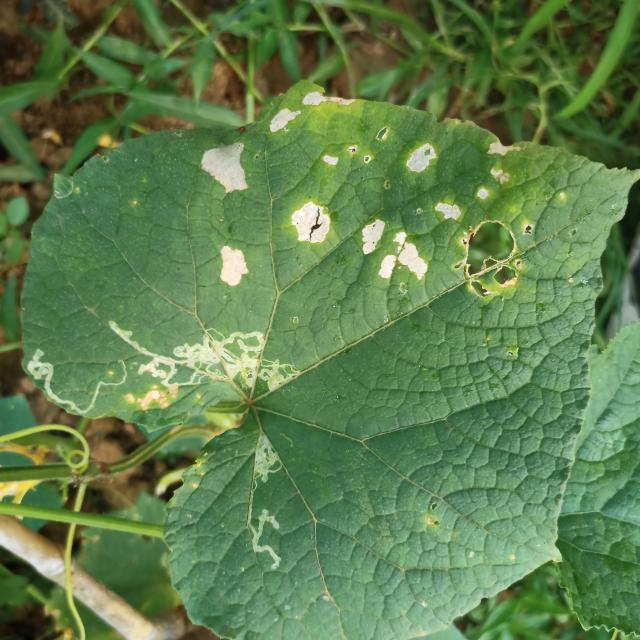disease_cucumber: (269, 86, 574, 315), (193, 130, 261, 292)
